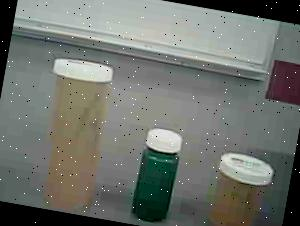Bottle A: (23, 52, 136, 220)
Bottle B: (201, 145, 276, 226)
Bottle C: (124, 121, 197, 226)
